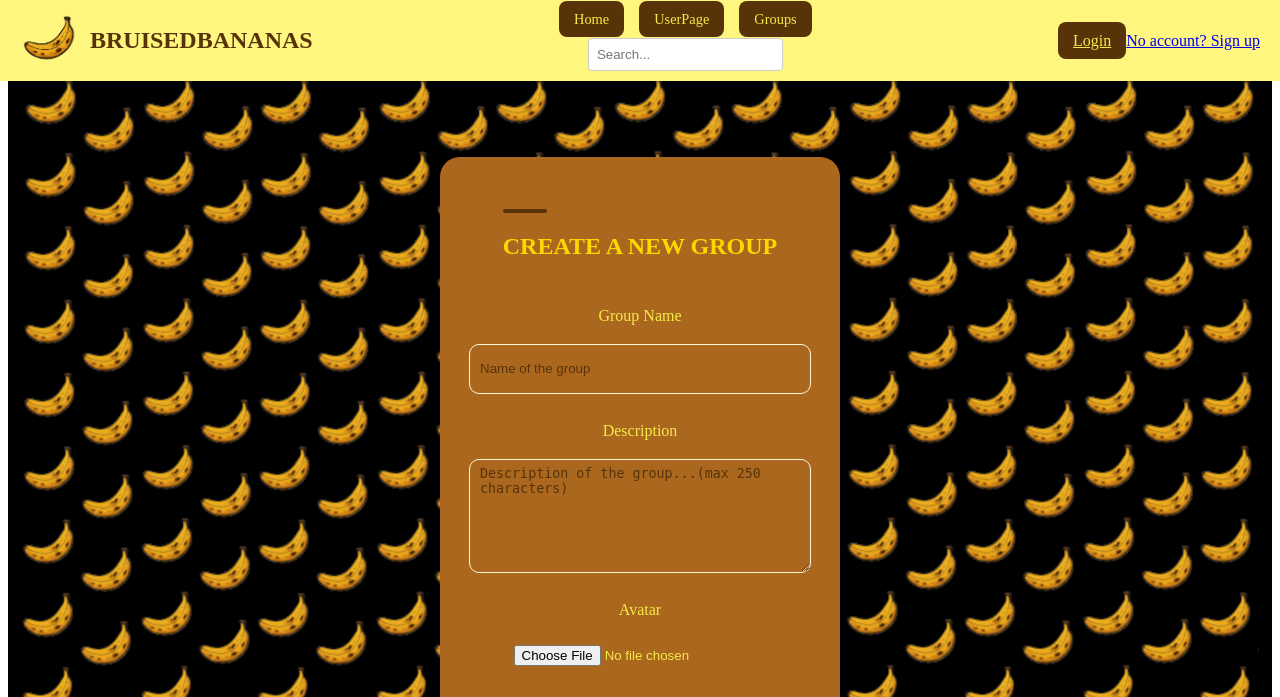
Test case: CreateGroupPage component › submits form successfully
This screenshot has width=1280, height=697.
In the field with placeholder "Name of the group": (640, 369) x1=469 y1=344 x2=811 y2=394, type "Test Group"
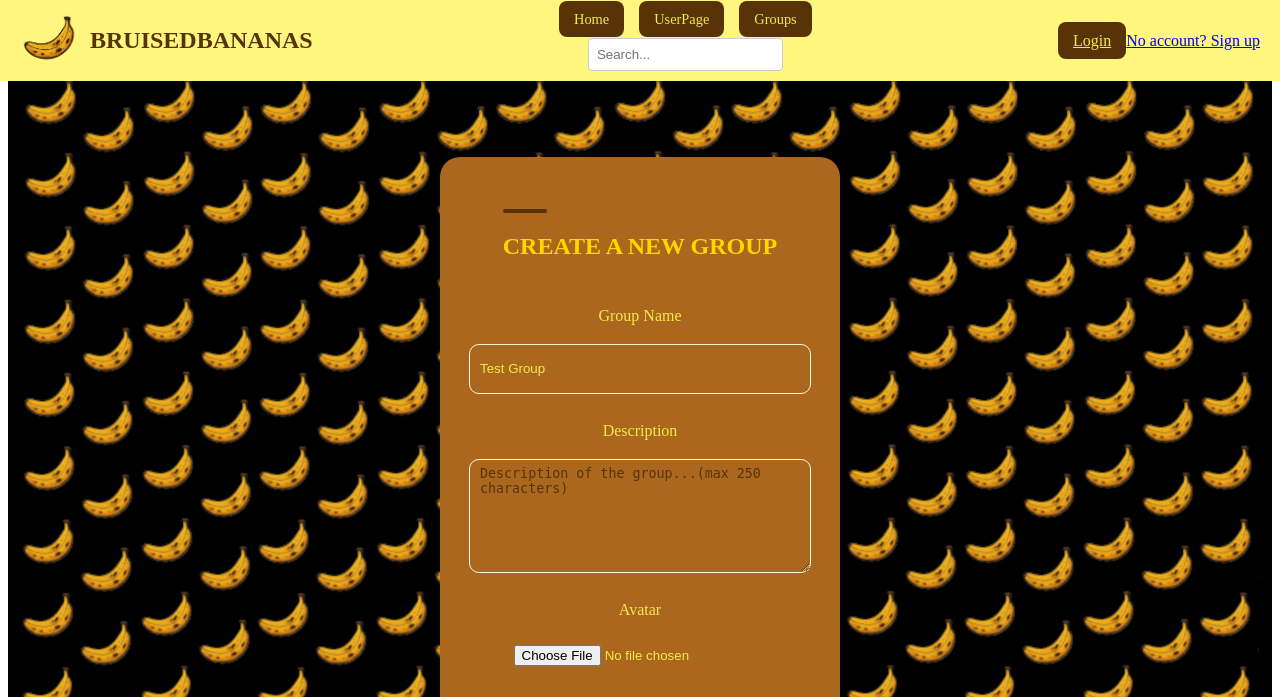
In the text box with placeholder "Description of the group...(max 250 characters)": (640, 516) x1=469 y1=459 x2=811 y2=574, type "Test description"
(page scrolled)
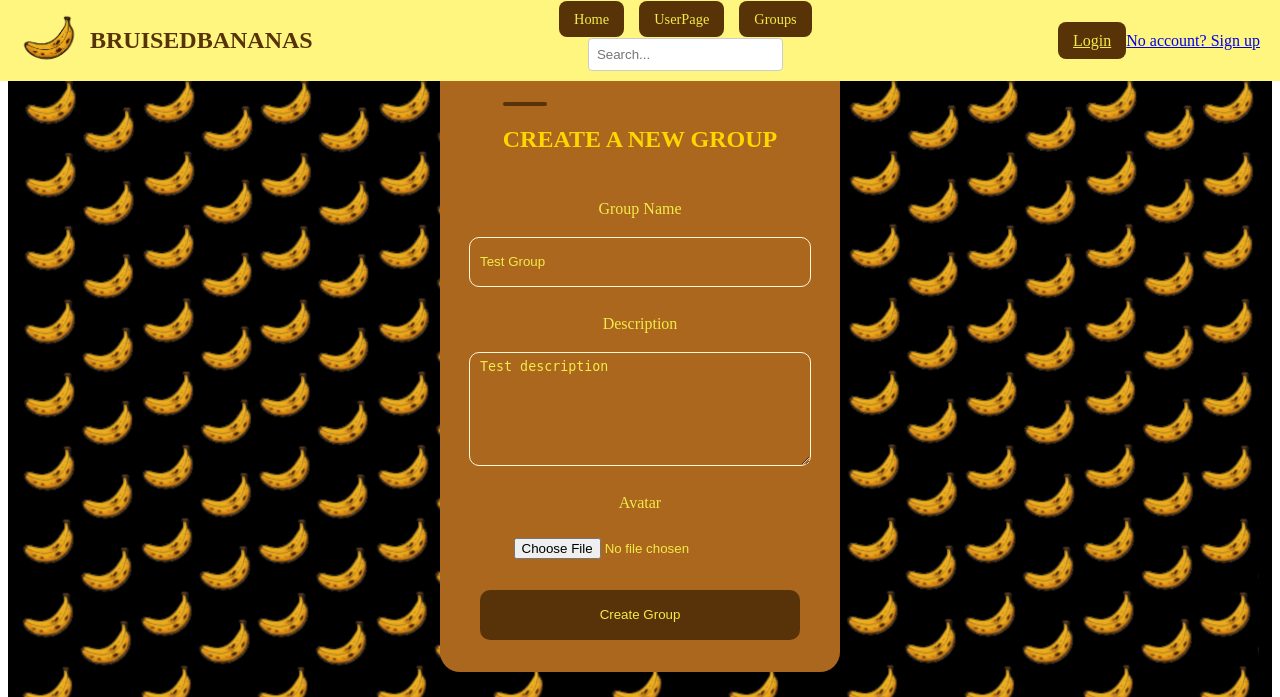
Submit the form with class "create-group-form", box x1=440 y1=50 x2=840 y2=672
Wait 800 ms
(page scrolled)
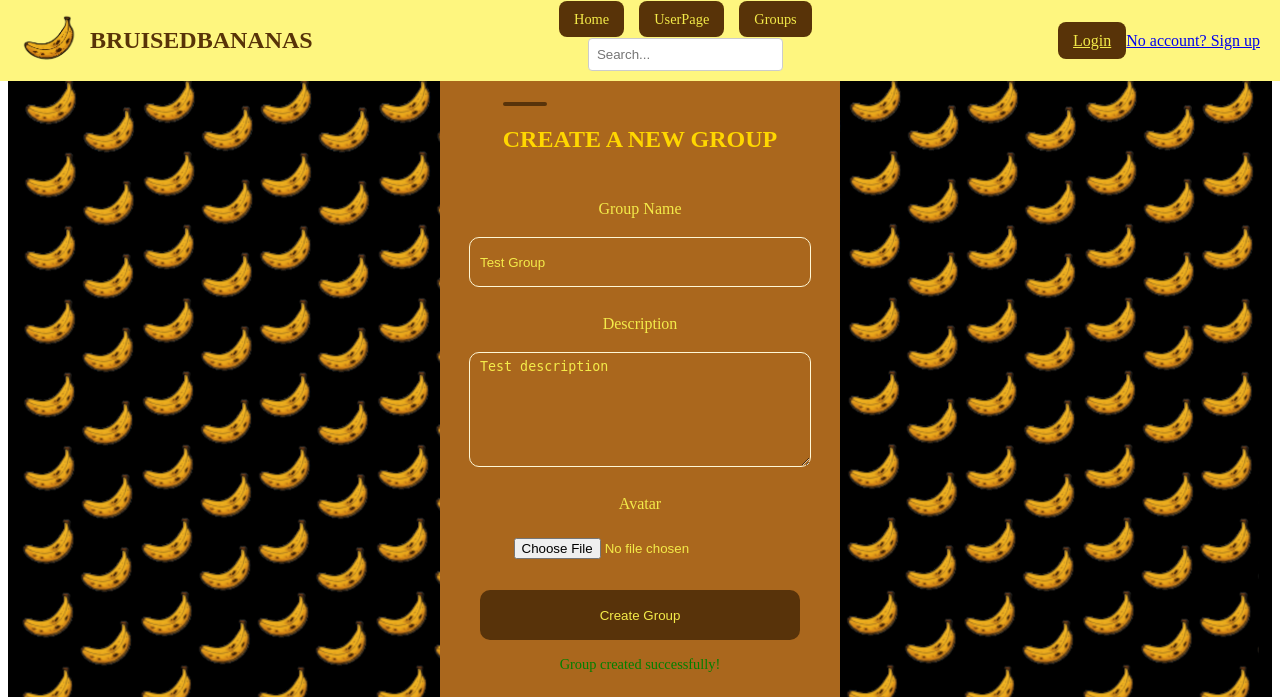
Now the text "Group created successfully!" is shown, box x1=560 y1=656 x2=720 y2=673
